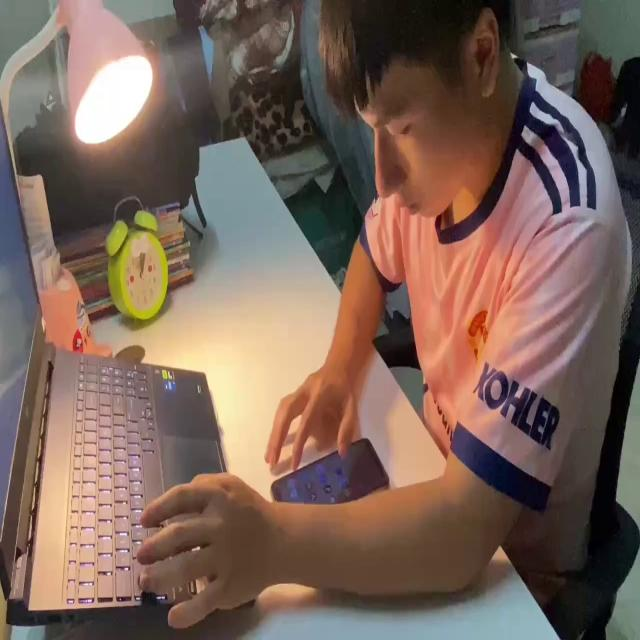laptop: (0, 95, 257, 627)
phone: (268, 431, 394, 514)
student: (138, 0, 640, 640), (457, 639, 640, 640)
